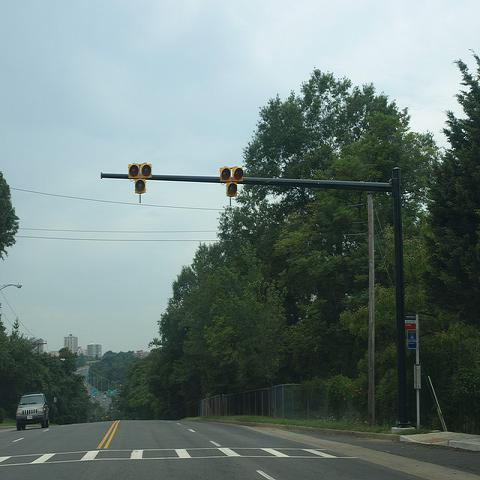car: (16, 393, 49, 430)
